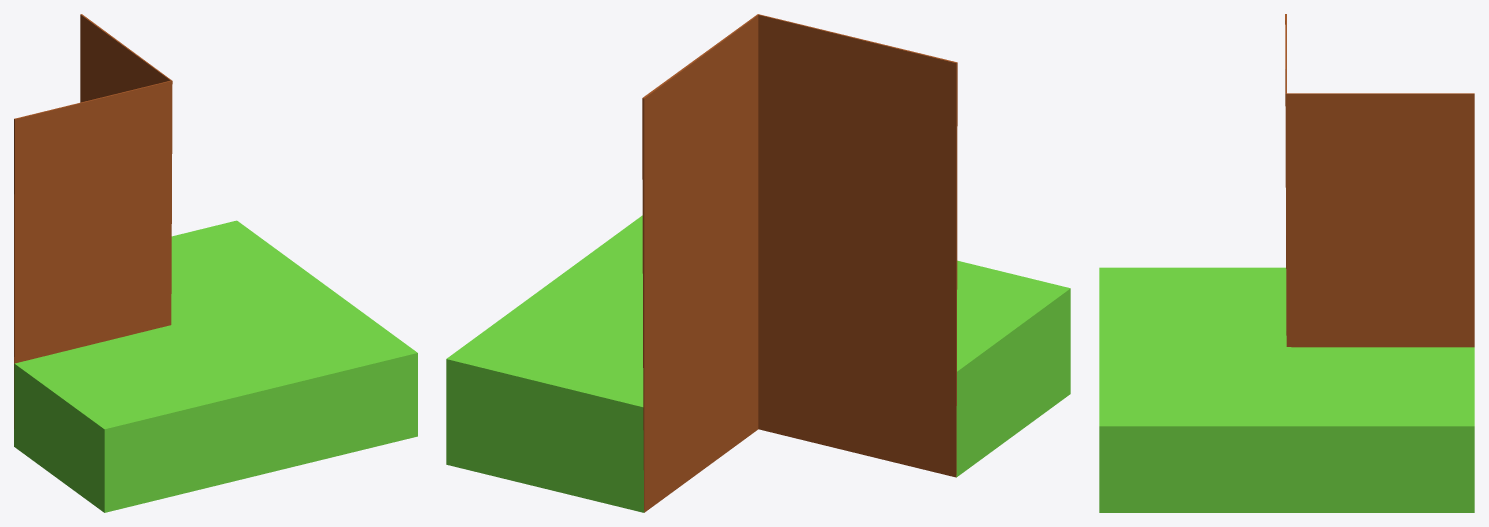
The model's file is corner.fbx.
3 renders of one model, left to right at view 1: azimuth 30°, elevation 25°; view 2: azimuth 150°, elevation 25°; view 3: azimuth 270°, elevation 25°, orthographic. The views are drawn at different scales.
Visible parts, largest first — view 1: corner; view 2: corner; view 3: corner.
Part boxes in pixels (bbox=[...]): corner: bbox=[14, 14, 417, 512]; corner: bbox=[446, 14, 1070, 512]; corner: bbox=[1099, 14, 1474, 512].
Size of the model in its own units: 200 by 200 by 200.
